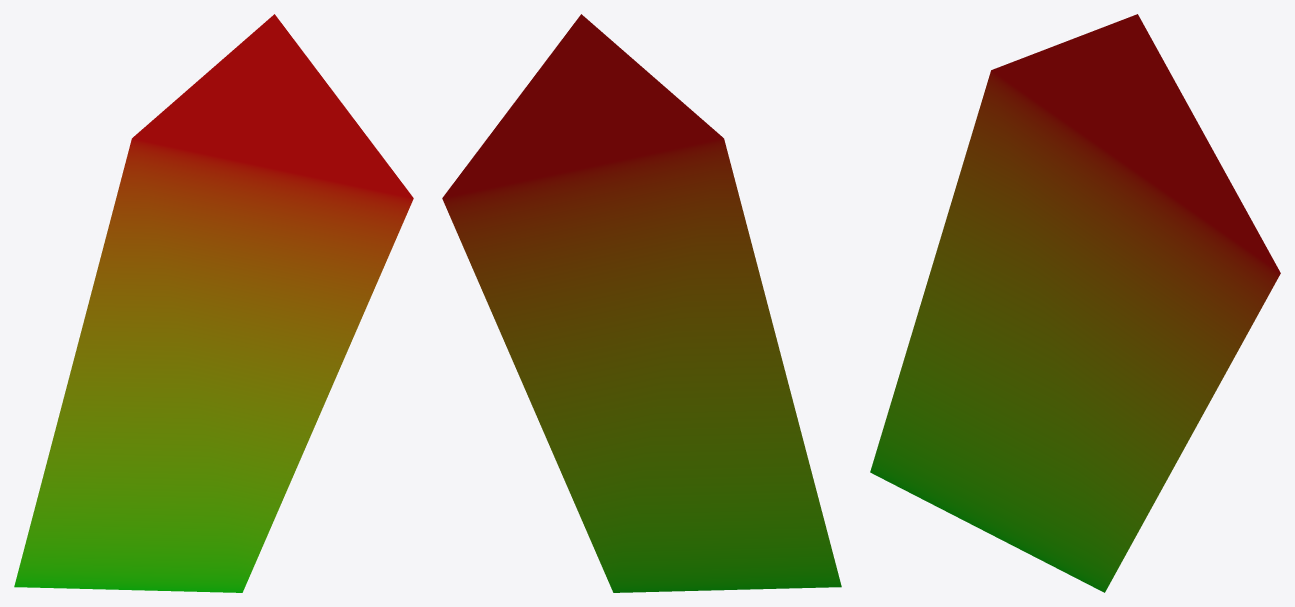
File: Var11_LOD5.fbx
The picture shows the model from 3 angles, left to right: view 1: azimuth 30°, elevation 25°; view 2: azimuth 150°, elevation 25°; view 3: azimuth 330°, elevation 25°; orthographic projection. The views are drawn at different scales.
Visible parts, largest first — view 1: _1f44_Var11_LOD5; view 2: _1f44_Var11_LOD5; view 3: _1f44_Var11_LOD5.
Boxes of the visible parts, <box> form: _1f44_Var11_LOD5: <box>14,14,413,592</box>; _1f44_Var11_LOD5: <box>442,14,841,592</box>; _1f44_Var11_LOD5: <box>870,14,1280,592</box>.
Bounding box in the file's own units: 24.24 × 33.09 × 1.91e-06.
